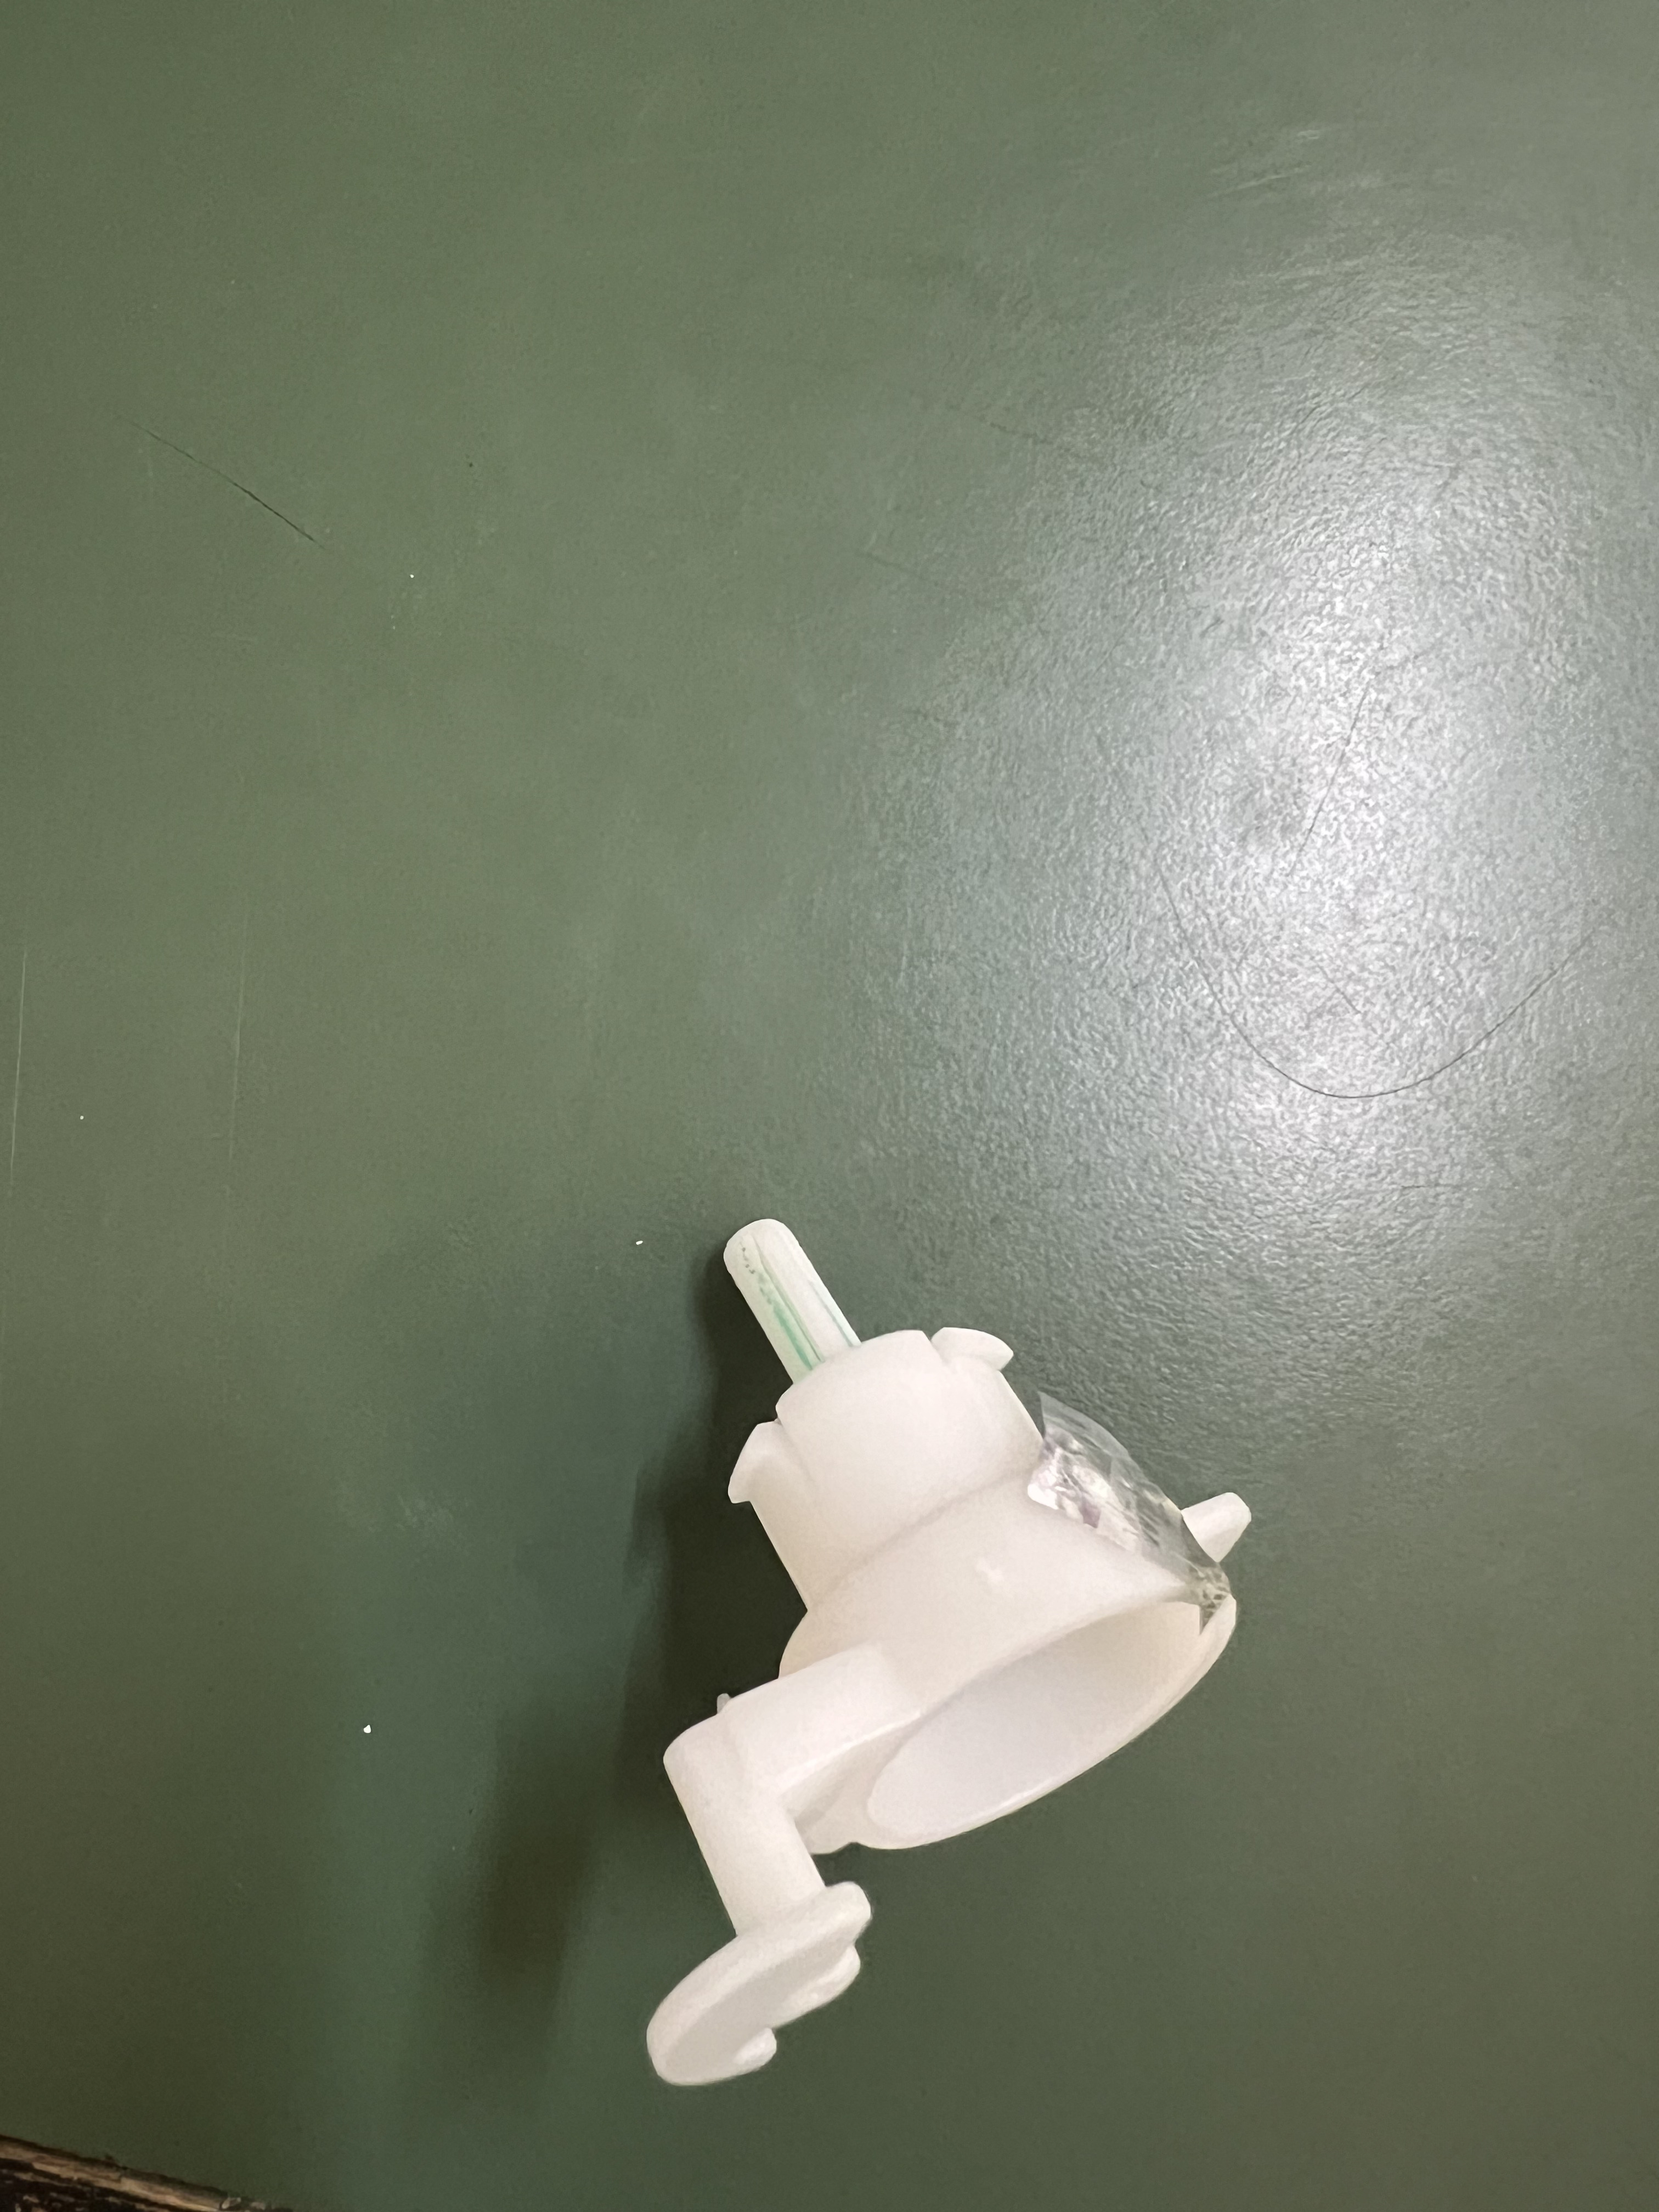drain_lever: (617, 1204, 1263, 2114)
